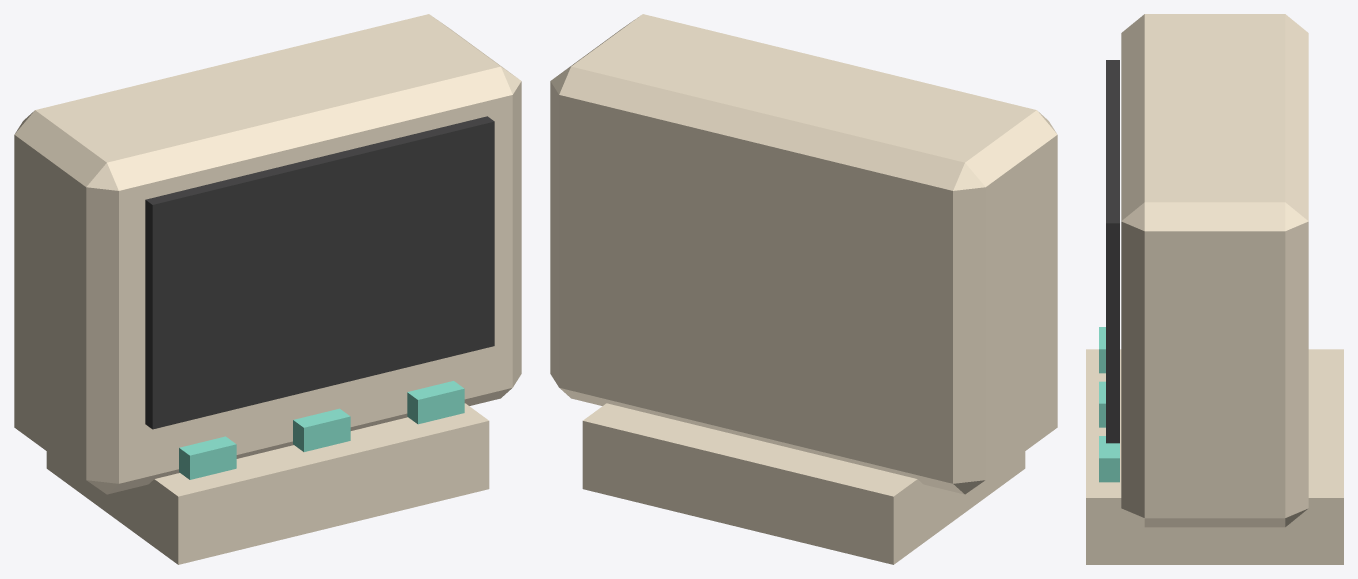
3 views of the same model, side by side, from view 1: azimuth 30°, elevation 25°; view 2: azimuth 150°, elevation 25°; view 3: azimuth 270°, elevation 25° (orthographic). The views are drawn at different scales.
Visible parts, largest first — view 1: Housing, Readout, Foot, Control, Control.002, Control.001; view 2: Housing, Foot; view 3: Housing, Foot, Readout, Control.002.
Part boxes in pixels (box(x1,y1,x2,y2)): Housing: box(14, 14, 521, 494); Readout: box(145, 116, 494, 429); Foot: box(46, 403, 489, 564); Control: box(179, 436, 236, 479); Control.002: box(407, 381, 464, 424); Control.001: box(293, 408, 350, 451); Housing: box(550, 14, 1057, 494); Foot: box(582, 403, 1025, 564); Housing: box(1121, 14, 1308, 527); Foot: box(1086, 349, 1343, 564); Readout: box(1106, 60, 1119, 443); Control.002: box(1099, 436, 1119, 482).
Size of the model in its own units: 42 by 36 by 22.
